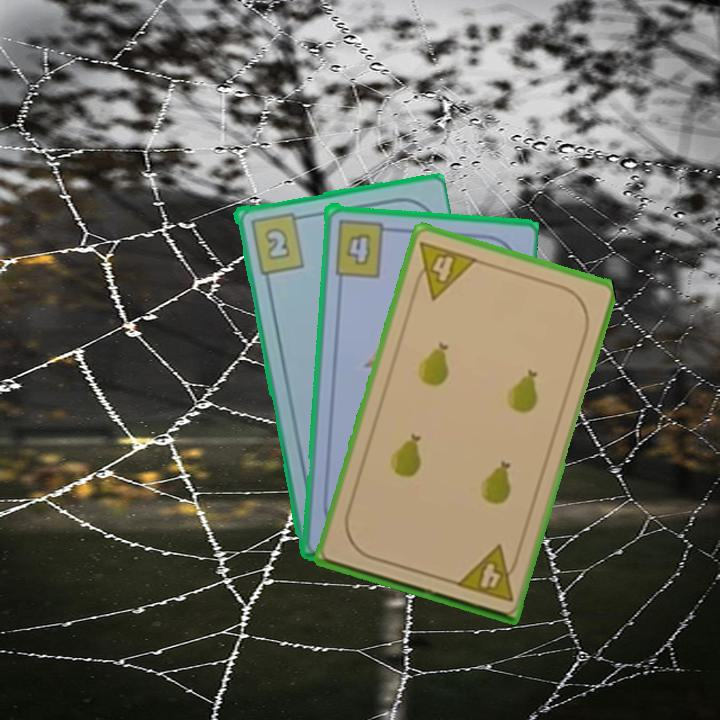2b: (246, 208, 308, 277)
4b: (331, 215, 396, 279)
4p: (408, 238, 480, 303), (452, 542, 523, 605)
